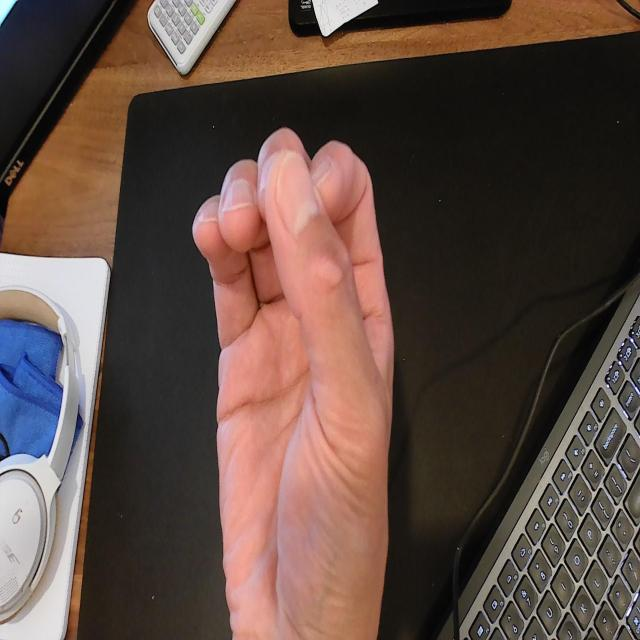O: (189, 123, 399, 632)
